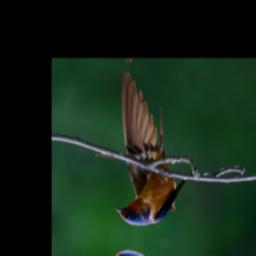Swallow: (102, 70, 205, 236)
